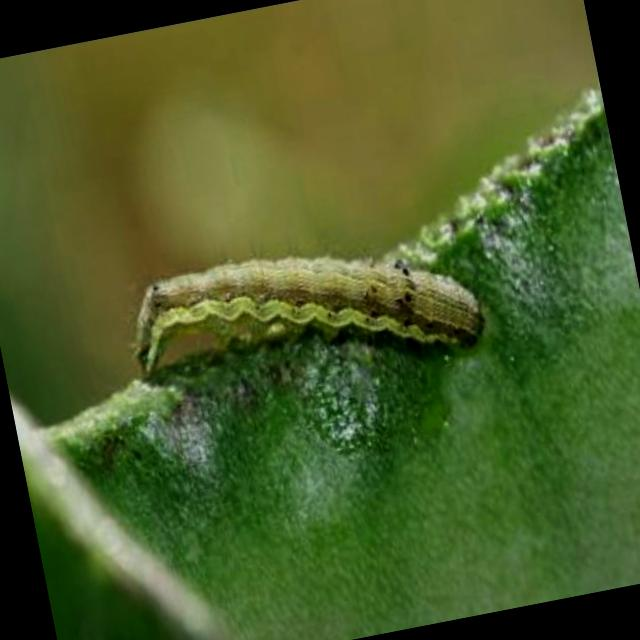Cotton bollworm: (72, 132, 550, 482)
